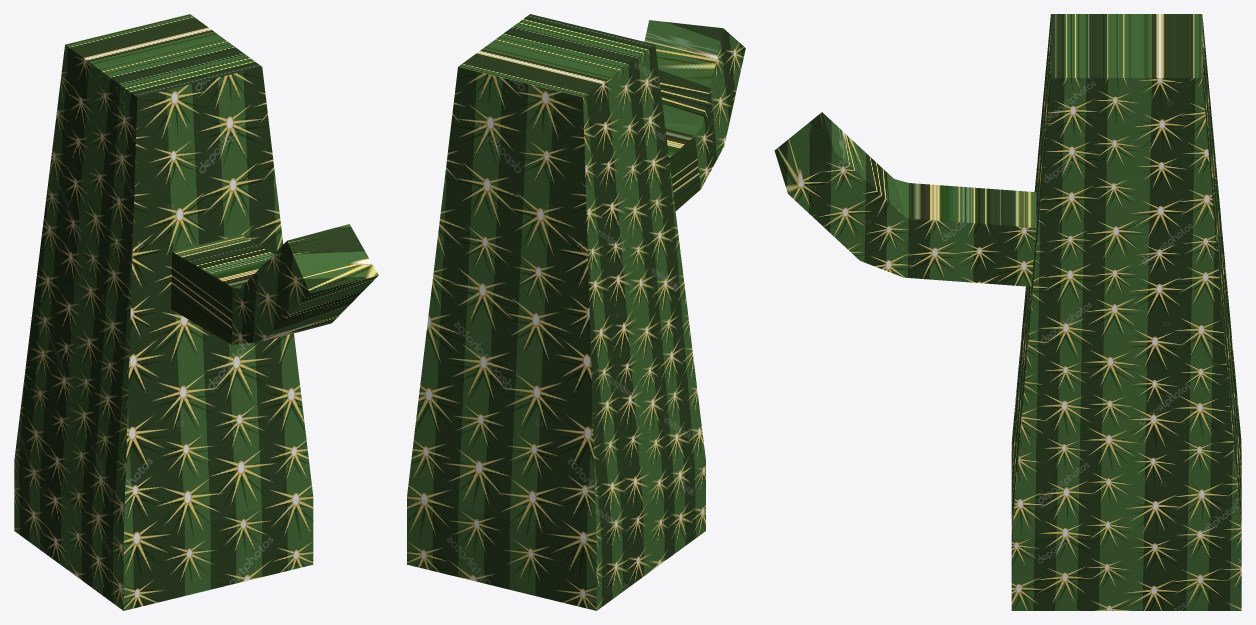
File: Cactus.obj
3 renders of one model, left to right at view 1: azimuth 30°, elevation 25°; view 2: azimuth 150°, elevation 25°; view 3: azimuth 270°, elevation 25°, orthographic. The views are drawn at different scales.
Visible parts, largest first — view 1: Cube; view 2: Cube; view 3: Cube.
Part boxes in pixels (box(x1,y1,x2,y2)): Cube: box(14, 14, 378, 610); Cube: box(407, 14, 745, 610); Cube: box(774, 14, 1241, 610).
Size of the model in its own units: 1.5 by 3.72 by 3.05.
Materials: 1 (1 with a texture image).
